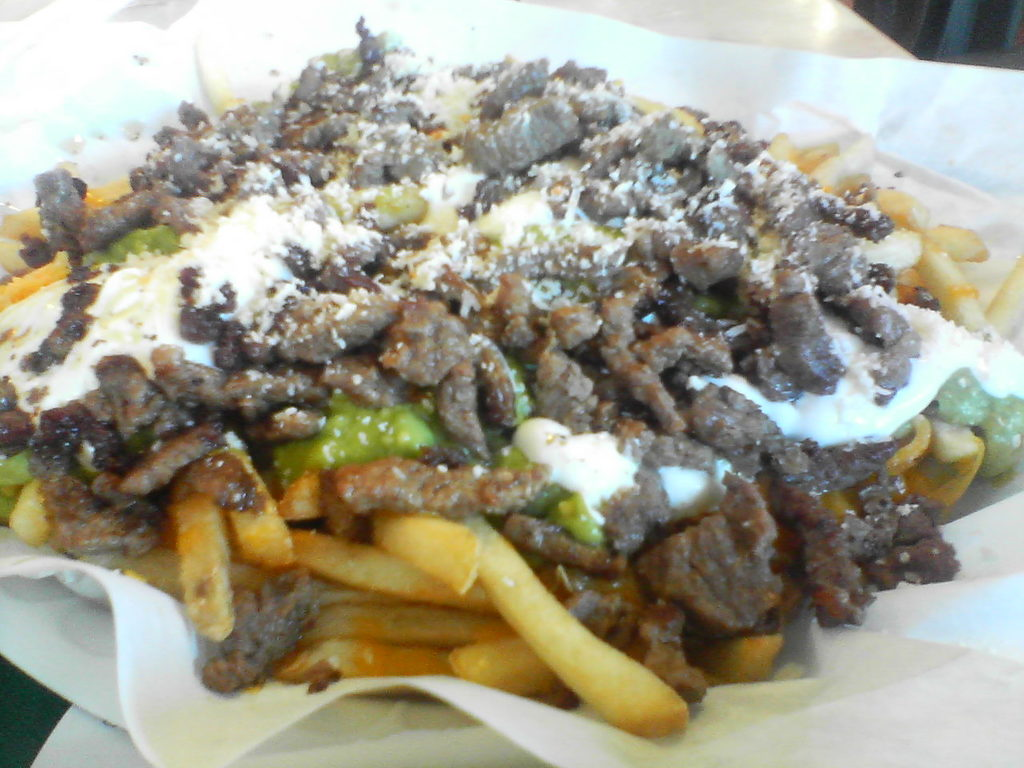French fries: (466, 500, 698, 745), (294, 524, 505, 621), (16, 490, 188, 605), (876, 195, 1004, 336), (266, 637, 446, 693), (371, 509, 482, 591), (174, 486, 230, 639), (230, 437, 290, 572), (305, 602, 494, 644), (453, 637, 558, 696), (693, 634, 790, 684), (0, 260, 81, 317), (902, 225, 988, 276), (77, 183, 133, 213), (3, 210, 49, 246), (797, 140, 834, 169), (773, 129, 787, 171)
